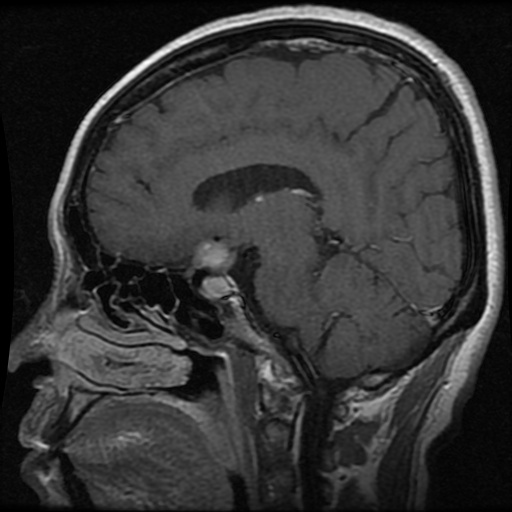pituitary: (193, 238, 234, 297)
